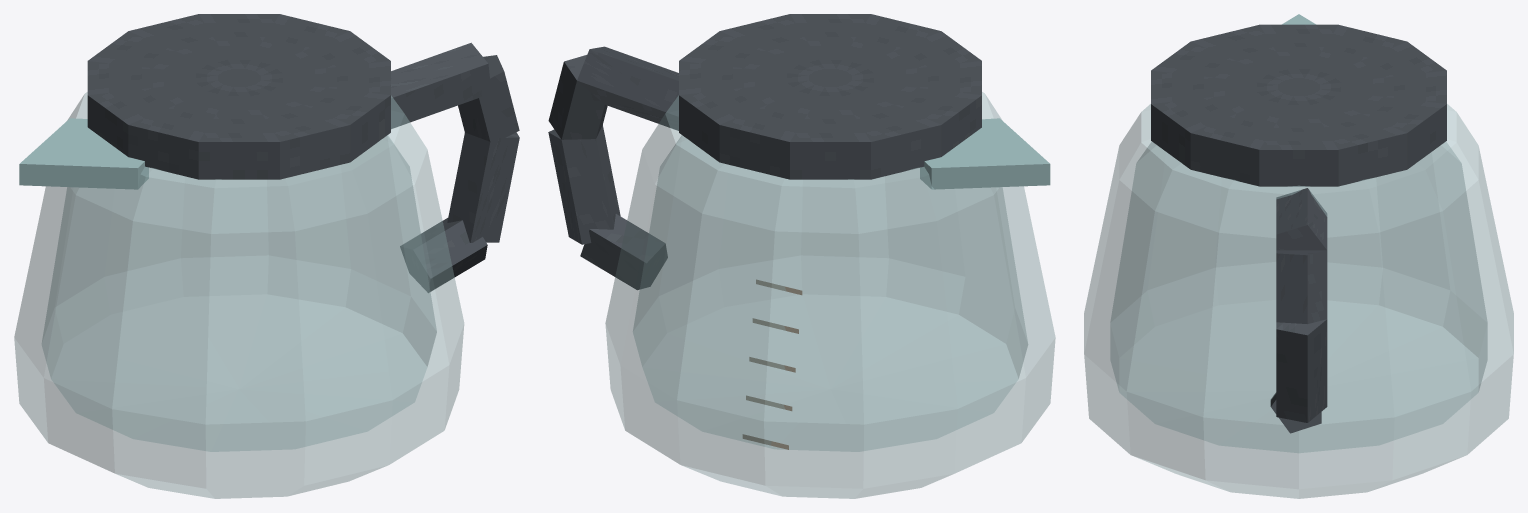
File: coffeepot.glb
3 views of the same model, side by side, from view 1: azimuth 30°, elevation 25°; view 2: azimuth 150°, elevation 25°; view 3: azimuth 270°, elevation 25° (orthographic). The views are drawn at different scales.
Parts seen in each view (by area): view 1: block_tapered glass coffee carafe, block_black coffee carafe lid, block_pour lip, block_handle 2, block_handle 0, block_handle 3, block_handle 1; view 2: block_tapered glass coffee carafe, block_black coffee carafe lid, block_pour lip, block_handle 2, block_handle 0, block_handle 3, block_handle 1; view 3: block_tapered glass coffee carafe, block_black coffee carafe lid, block_handle 2, block_handle 1, block_handle 0, block_handle 3.
Boxes of the visible parts, bbox=[...] form: block_tapered glass coffee carafe: bbox=[14, 92, 464, 498]; block_black coffee carafe lid: bbox=[87, 14, 390, 179]; block_pour lip: bbox=[19, 118, 148, 189]; block_handle 2: bbox=[447, 132, 519, 242]; block_handle 0: bbox=[391, 42, 490, 128]; block_handle 3: bbox=[400, 218, 487, 292]; block_handle 1: bbox=[458, 55, 519, 141]; block_tapered glass coffee carafe: bbox=[605, 92, 1055, 498]; block_black coffee carafe lid: bbox=[679, 14, 981, 179]; block_pour lip: bbox=[920, 118, 1050, 189]; block_handle 2: bbox=[548, 125, 620, 244]; block_handle 0: bbox=[577, 46, 678, 130]; block_handle 3: bbox=[580, 214, 667, 289]; block_handle 1: bbox=[548, 55, 607, 139]; block_tapered glass coffee carafe: bbox=[1084, 104, 1513, 498]; block_black coffee carafe lid: bbox=[1151, 24, 1446, 186]; block_handle 2: bbox=[1276, 319, 1327, 422]; block_handle 1: bbox=[1276, 250, 1327, 323]; block_handle 0: bbox=[1276, 188, 1327, 250]; block_handle 3: bbox=[1270, 393, 1321, 433].
Bounding box in the file's own units: 0.277 × 0.1881 × 0.2122.
2 materials, 2 textured.
